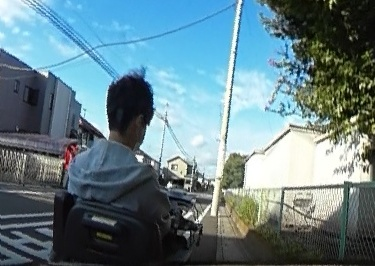person: (56, 74, 181, 227)
